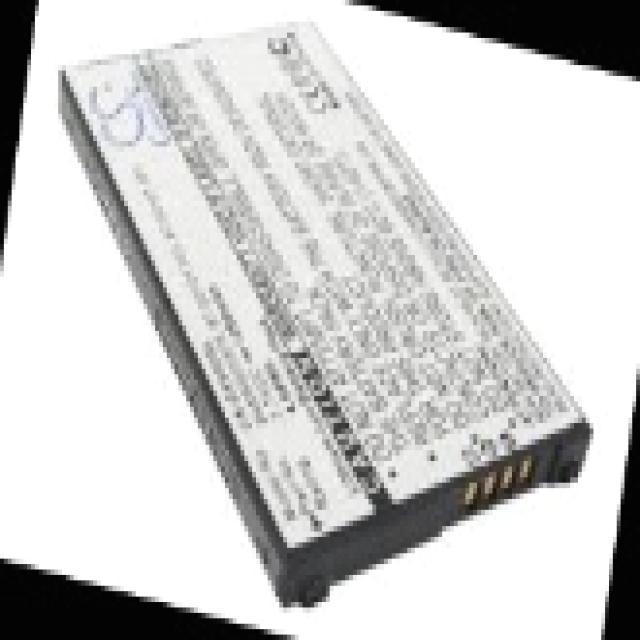elektronik: (62, 19, 582, 609)
